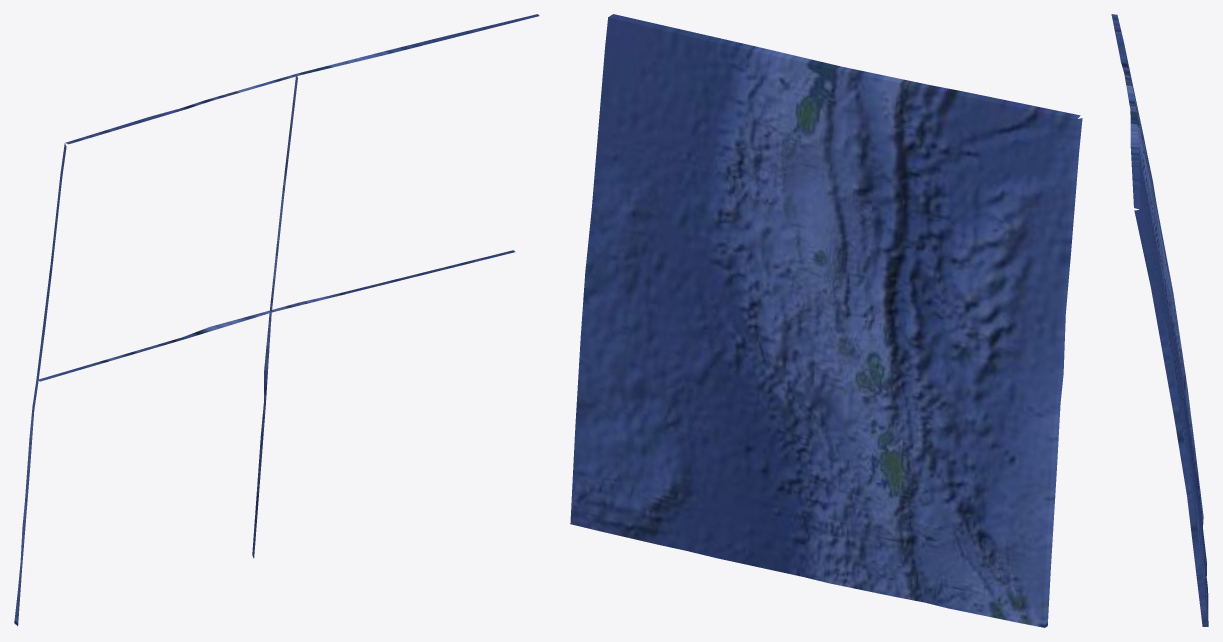
3 renders of one model, left to right at view 1: azimuth 30°, elevation 25°; view 2: azimuth 150°, elevation 25°; view 3: azimuth 270°, elevation 25°, orthographic. The views are drawn at different scales.
Bounding box in the file's own units: 629105 × 623744 × 130046.
1 material, 1 textured.
